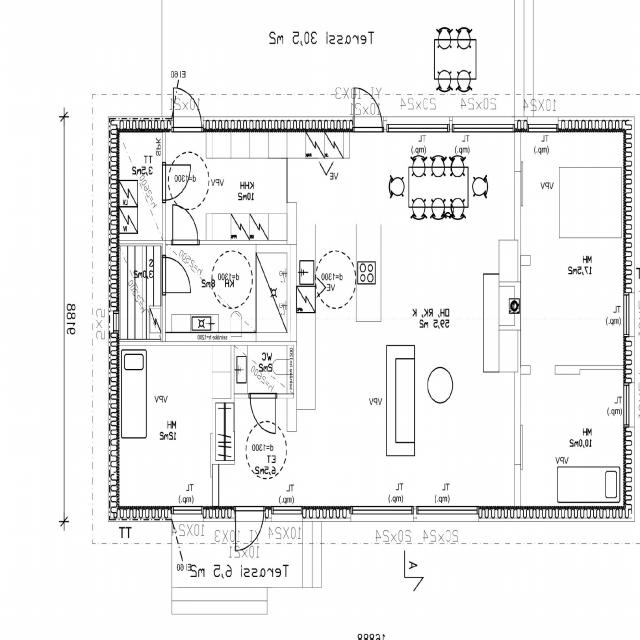door: (354, 76, 383, 132), (236, 506, 264, 562), (174, 77, 202, 132), (163, 257, 191, 292), (173, 204, 198, 243), (163, 164, 190, 200), (251, 394, 275, 433)
